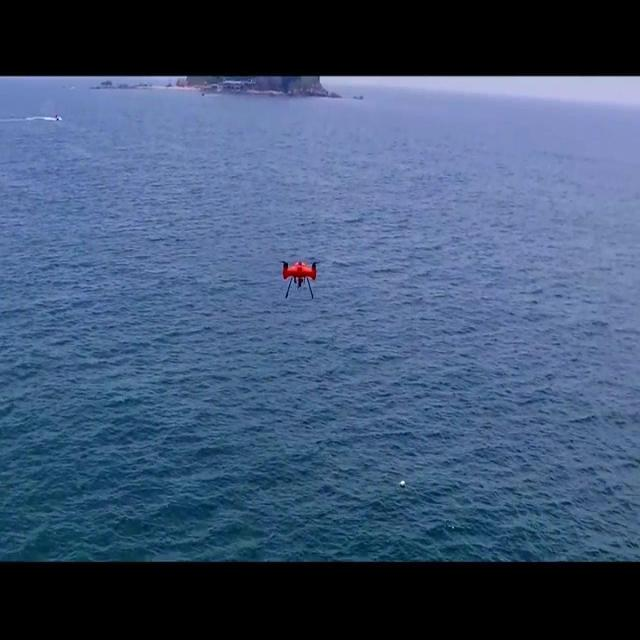drone: (278, 257, 322, 301)
